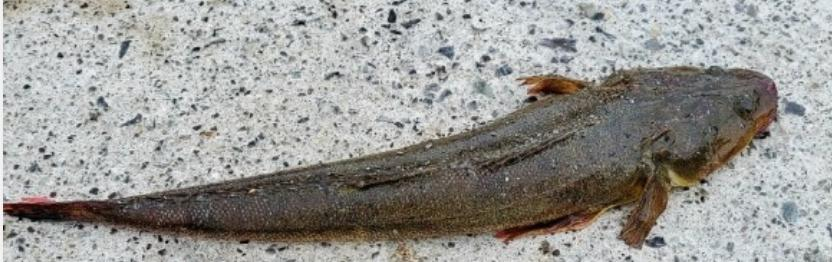fish: (3, 66, 782, 250)
